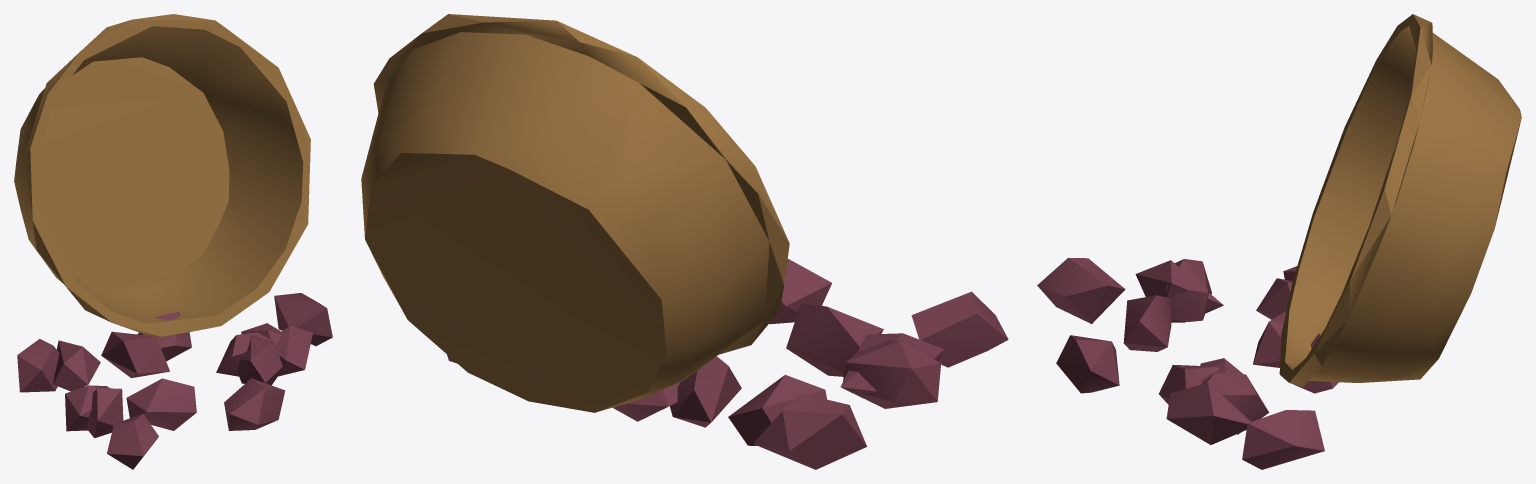
Rendered from thung_do.glb.
3 renders of one model, left to right at view 1: azimuth 30°, elevation 25°; view 2: azimuth 150°, elevation 25°; view 3: azimuth 270°, elevation 25°, orthographic. The views are drawn at different scales.
Parts seen in each view (by area): view 1: thung_do; view 2: thung_do; view 3: thung_do.
Part boxes in pixels (x1=…): thung_do: x1=14, y1=14, x2=332, y2=469; thung_do: x1=361, y1=14, x2=1008, y2=469; thung_do: x1=1037, y1=14, x2=1521, y2=469.
Bounding box in the file's own units: 0.6795 × 0.6261 × 0.7363.
